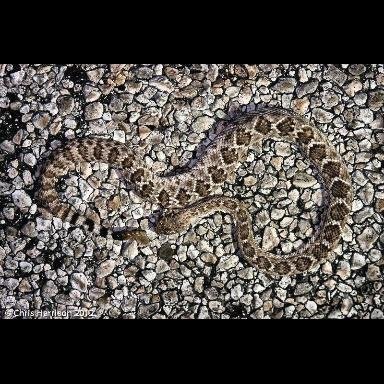snake: (36, 112, 352, 277)
